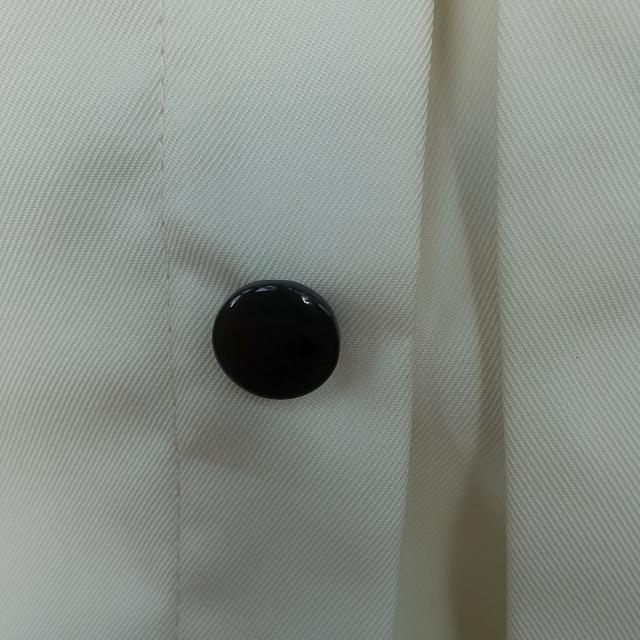education_male_uniform: (67, 170, 576, 640)
